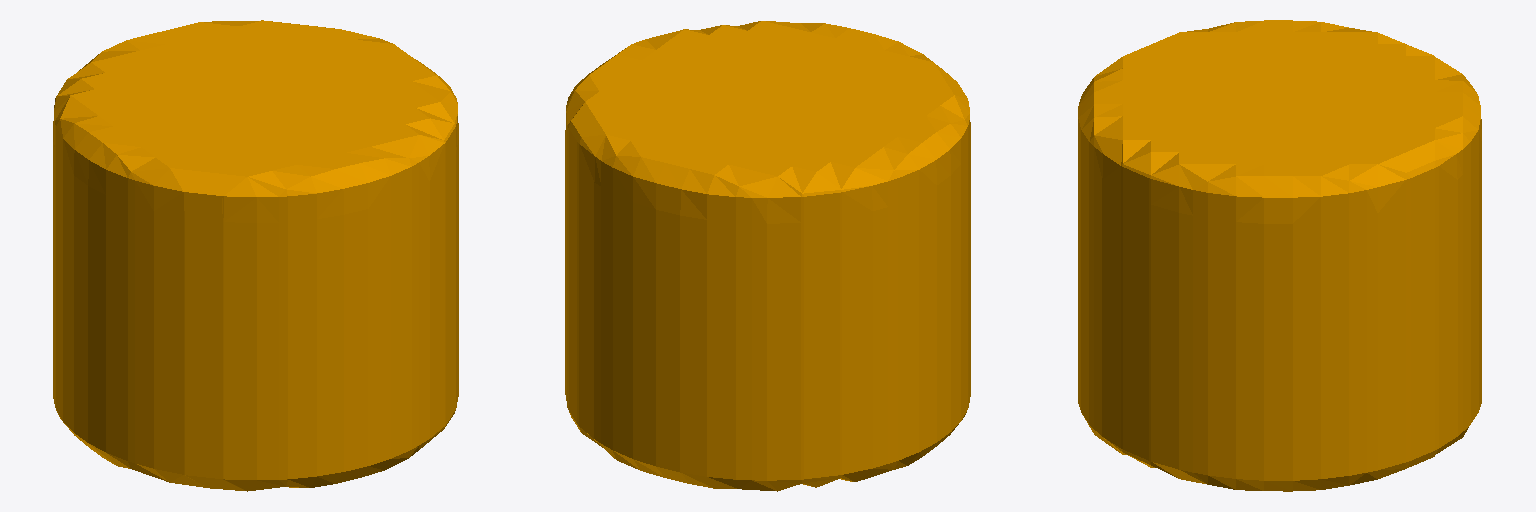
robot.urdf — cylinder_../../meshes/cylinders/cylinder_34.stl:
<?xml version="1.0" encoding="utf-8"?>  <robot name="cylinder_../../meshes/cylinders/cylinder_34.stl">   <link name="cylinder_../../meshes/cylinders/cylinder_34.stl">     <visual>       <geometry>         <mesh filename="../meshes/cylinders/cylinder_34.stl" scale="1 1 1"/>       </geometry>     </visual>     <collision>       <geometry>         <mesh filename="../meshes/cylinders/cylinder_34.stl" scale="1 1 1"/>       </geometry>     </collision>     <inertial>        <origin         xyz="0 0 0"         rpy="0 0 0" />       <mass value="0.24359355385287357"/>       <origin rpy="0 0 0" xyz="0 0 0"/>       <inertia ixx="0.00015222013204750192" ixy="-5.8529476888162935e-08" ixz="1.484285374154988e-08" iyy="0.00015222004468936856" iyz="1.5524206464092442e-08" izz="0.00015391295932349694"/>     </inertial>   </link>  </robot>

--- What the picture shows (computed from the rendered views, not written in the file) ---
Views: 3 orthographic renders of the robot side by side, from view 1: azimuth 30°, elevation 25°; view 2: azimuth 150°, elevation 25°; view 3: azimuth 270°, elevation 25°.
Model cylinder_../../meshes/cylinders/cylinder_34.stl with 1 links and 0 joints (none), rooted at cylinder_../../meshes/cylinders/cylinder_34.stl, posed all joints at 0.
Links seen in each view (by area): view 1: cylinder_../../meshes/cylinders/cylinder_34.stl; view 2: cylinder_../../meshes/cylinders/cylinder_34.stl; view 3: cylinder_../../meshes/cylinders/cylinder_34.stl.
Link boxes in pixels (x1,y1,x2,y2): cylinder_../../meshes/cylinders/cylinder_34.stl: [53, 20, 458, 491]; cylinder_../../meshes/cylinders/cylinder_34.stl: [565, 21, 970, 491]; cylinder_../../meshes/cylinders/cylinder_34.stl: [1078, 20, 1481, 491].
Size in the robot's own frame: 0.0714 by 0.0714 by 0.0614 metres.
Meshes: 1 distinct files referenced, 1 mesh visuals loaded (1 binary STL).